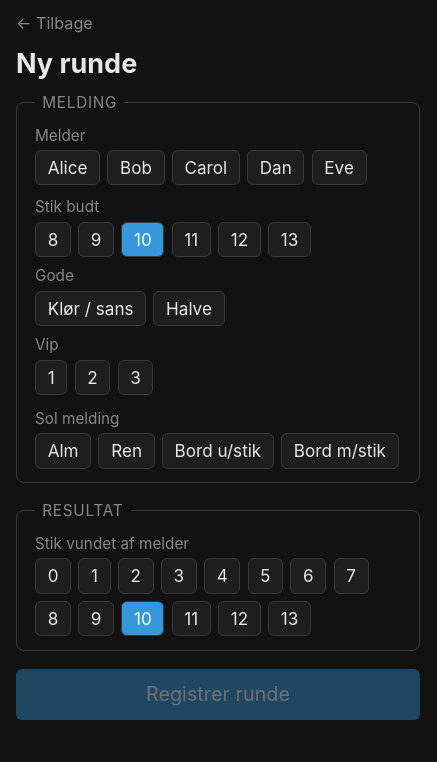
Test: Round screen - opponent selection with extra players › shows selectable Modstandere when >4 players
Click the button "Alice": (68, 168) [35,150,100,186]
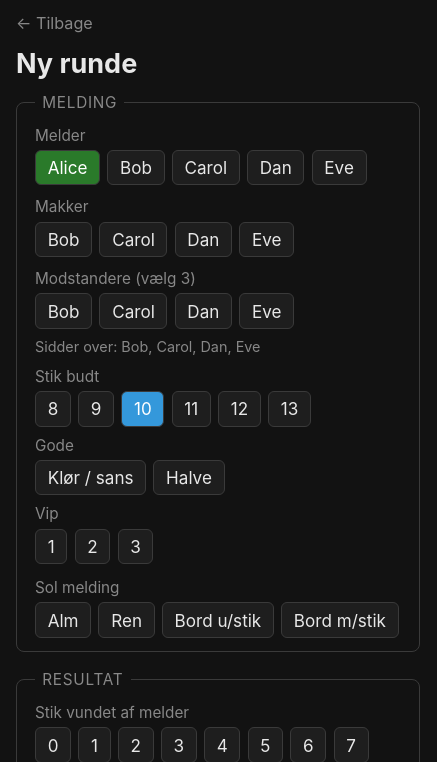
Expected: the text "Modstandere (vælg 3)" is shown, [35,269,196,288]
